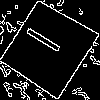I: (24, 24, 71, 61)
